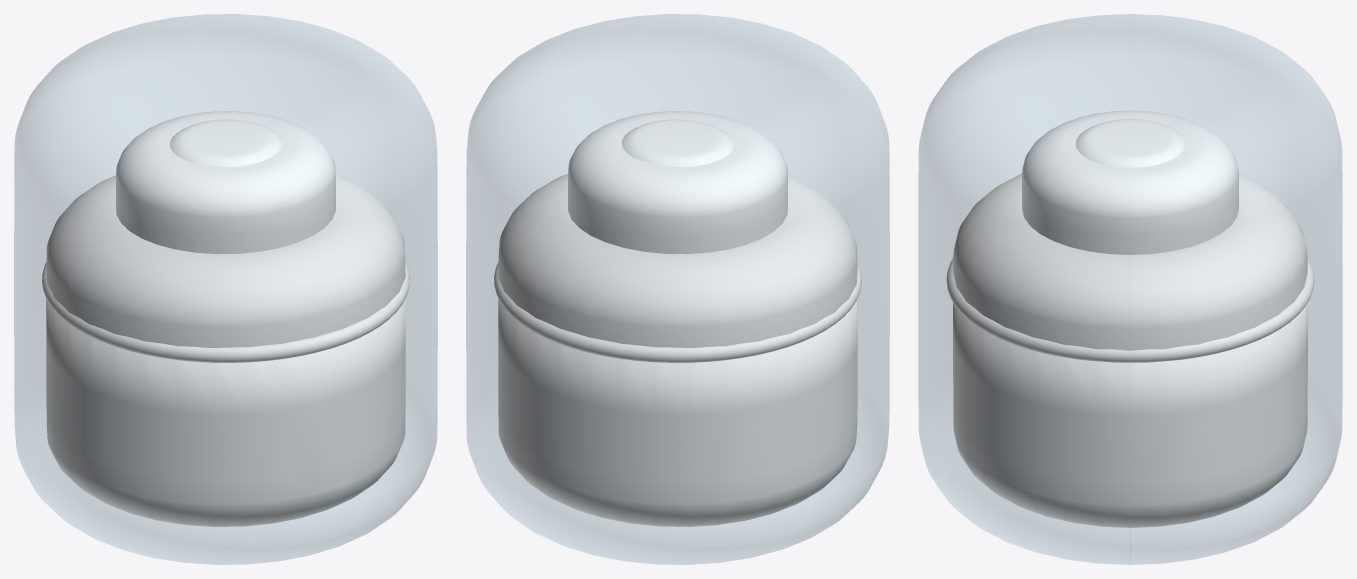
The picture shows the model from 3 angles, left to right: view 1: azimuth 30°, elevation 25°; view 2: azimuth 150°, elevation 25°; view 3: azimuth 270°, elevation 25°; orthographic projection.
Parts seen in each view (by area): view 1: Glass, Inner_Core_Top, Inner_Core_Bot; view 2: Glass, Inner_Core_Top, Inner_Core_Bot; view 3: Glass, Inner_Core_Top, Inner_Core_Bot.
Boxes of the visible parts, left/top/right/bottom form: Glass: left=14, top=14, right=437, bottom=564; Inner_Core_Top: left=42, top=111, right=409, bottom=362; Inner_Core_Bot: left=46, top=299, right=405, bottom=526; Glass: left=466, top=14, right=889, bottom=564; Inner_Core_Top: left=494, top=111, right=861, bottom=362; Inner_Core_Bot: left=498, top=299, right=857, bottom=526; Glass: left=918, top=14, right=1342, bottom=564; Inner_Core_Top: left=946, top=110, right=1314, bottom=362; Inner_Core_Bot: left=953, top=302, right=1307, bottom=527.
Size of the model in its own units: 0.981 by 1.09 by 0.981.
